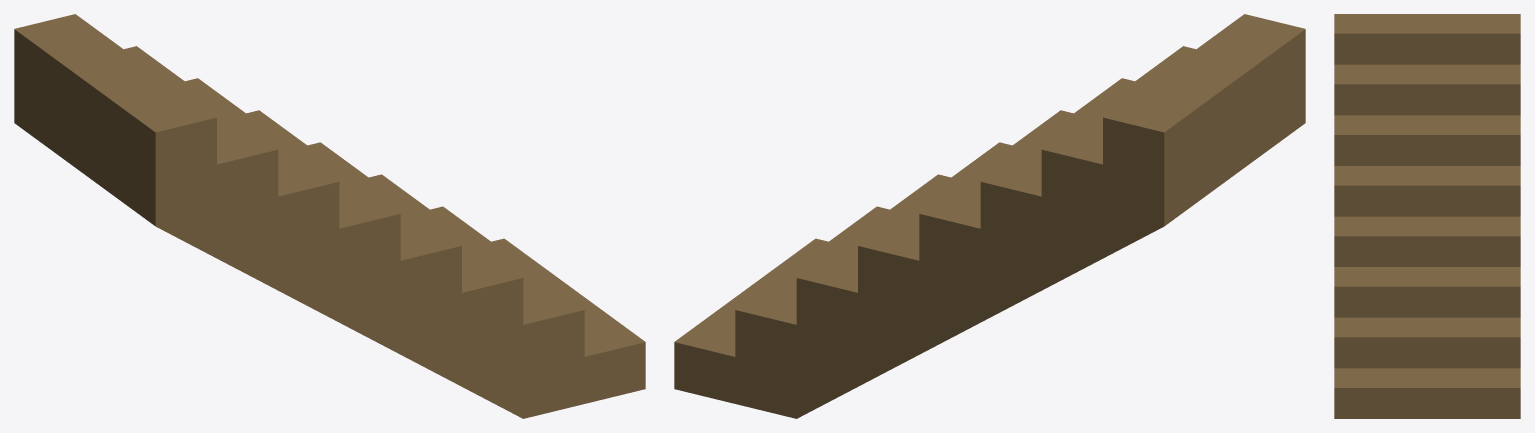
File: Stairs_Wood_01.obj
The picture shows the model from 3 angles, left to right: view 1: azimuth 30°, elevation 25°; view 2: azimuth 150°, elevation 25°; view 3: azimuth 270°, elevation 25°; orthographic projection. The views are drawn at different scales.
Parts seen in each view (by area): view 1: Mesh1_Stairs_Wood_Model; view 2: Mesh1_Stairs_Wood_Model; view 3: Mesh1_Stairs_Wood_Model.
Part boxes in pixels (x1,y1,x2,y2): Mesh1_Stairs_Wood_Model: (14, 14, 645, 418); Mesh1_Stairs_Wood_Model: (674, 14, 1305, 418); Mesh1_Stairs_Wood_Model: (1334, 14, 1520, 418).
Size of the model in its own units: 3 by 2.2 by 1.5.
